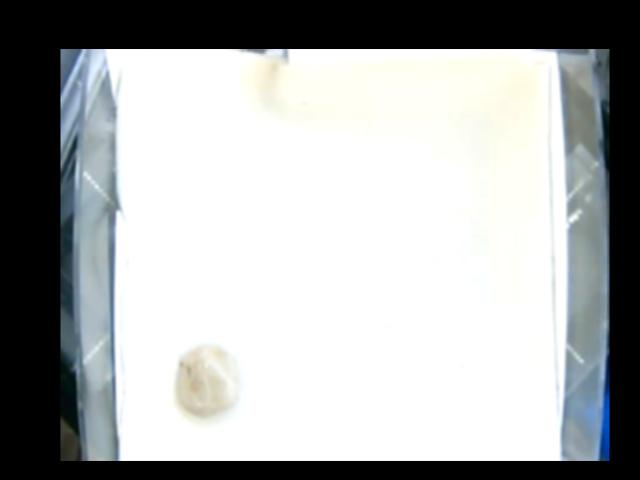Pebble: (177, 343, 238, 418)
